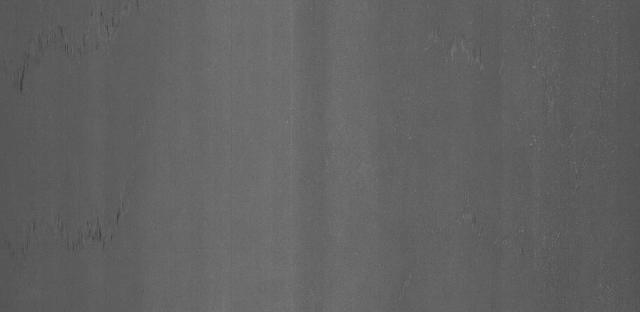silk_spot: (417, 18, 599, 82), (13, 3, 146, 87), (27, 192, 162, 272)
